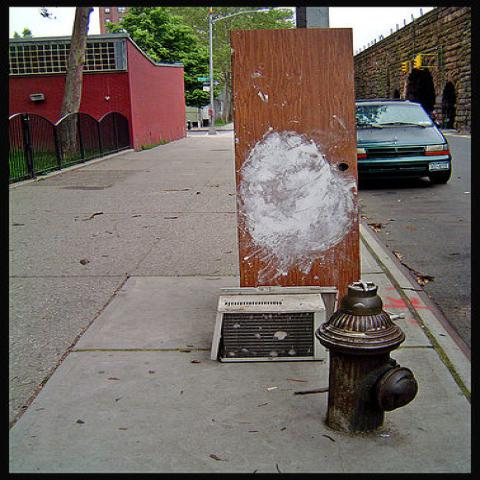car: (355, 100, 453, 189)
